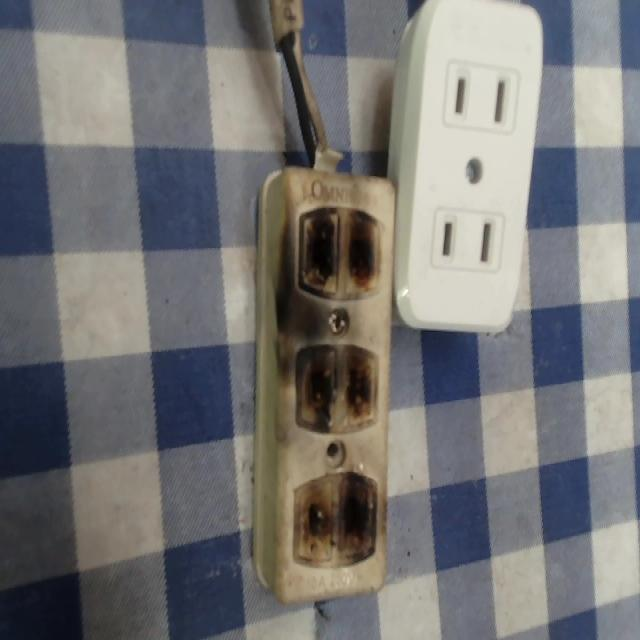-: (286, 465, 379, 564), (291, 201, 384, 299), (290, 341, 382, 431)
